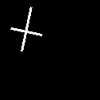single_crochet: (11, 7, 41, 50)
